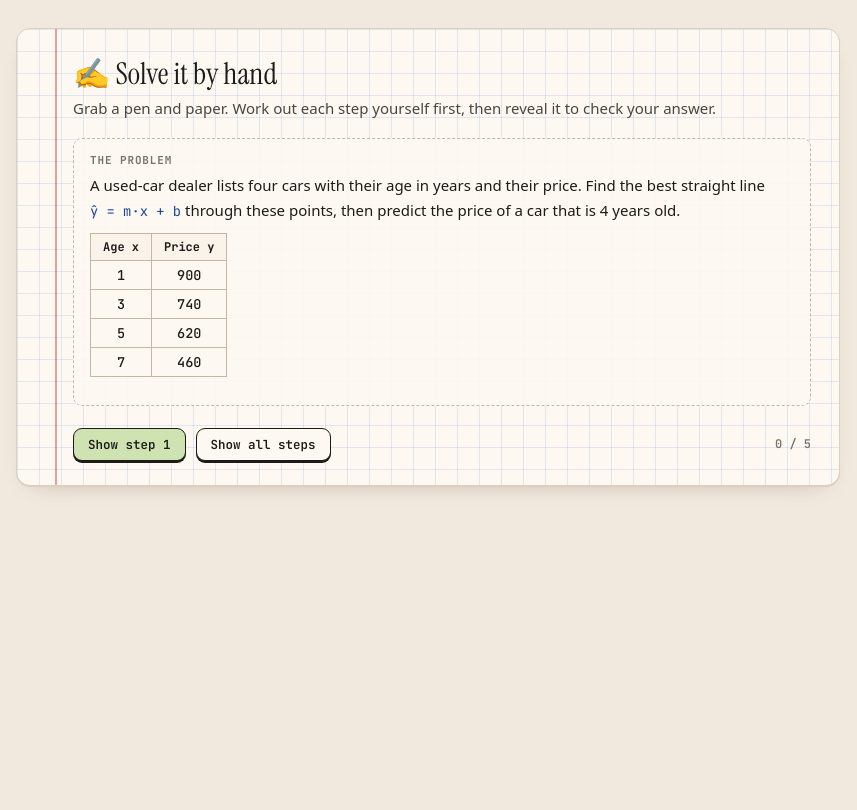
Scenario: ByHand › reveals one step at a time, with its formulas and table, then the answer
Click the button "Show step 1": {"x": 129, "y": 444} x1=73 y1=428 x2=186 y2=461
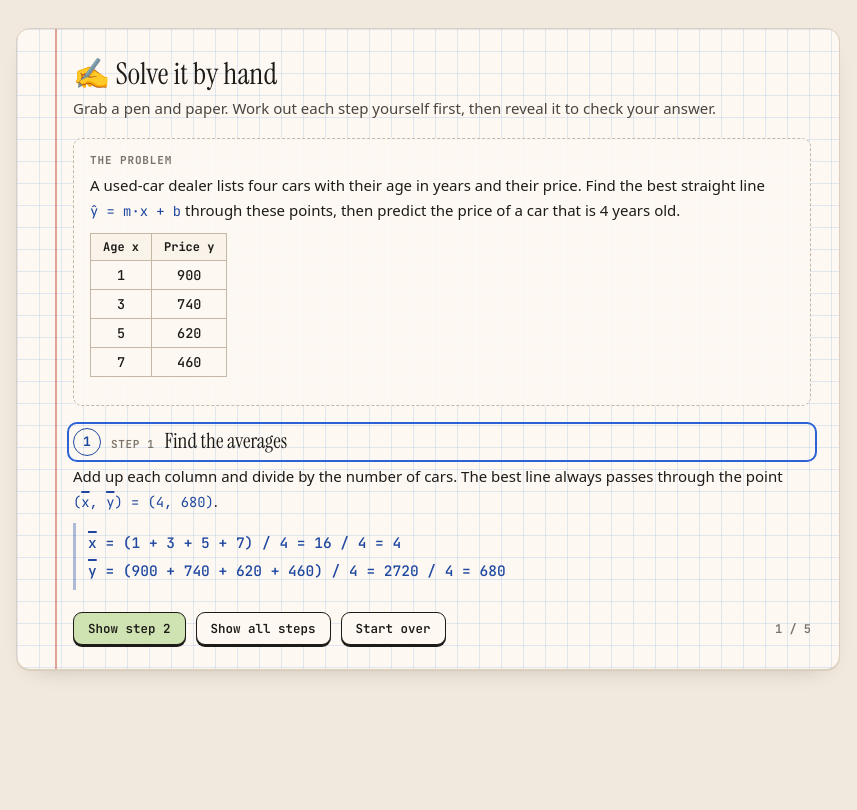
Expected: the heading "1 Step 1 Find the averages" is shown, x1=73 y1=427 x2=287 y2=456
Click the button "Show step 2": {"x": 129, "y": 629} x1=73 y1=612 x2=186 y2=645
(page scrolled)
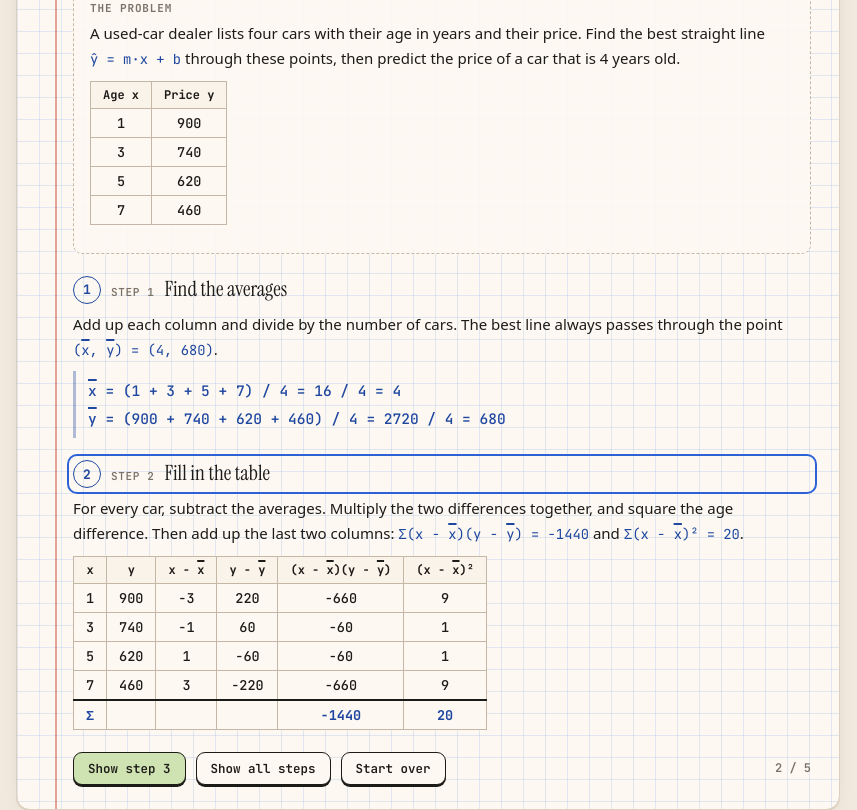
Expected: the table that starts with "x −" shows "−1440", x1=321 y1=706 x2=361 y2=724
Click the button "Show all steps": {"x": 263, "y": 768} x1=196 y1=752 x2=330 y2=785
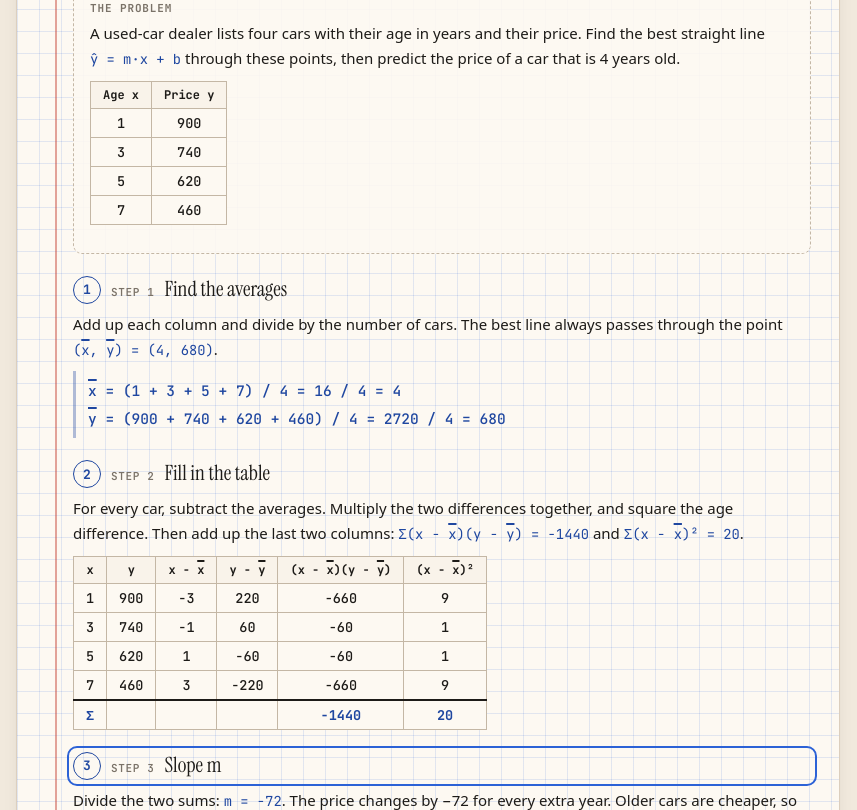
Expected: the number of list items is 5
Expected: the button "Show step" is gone
